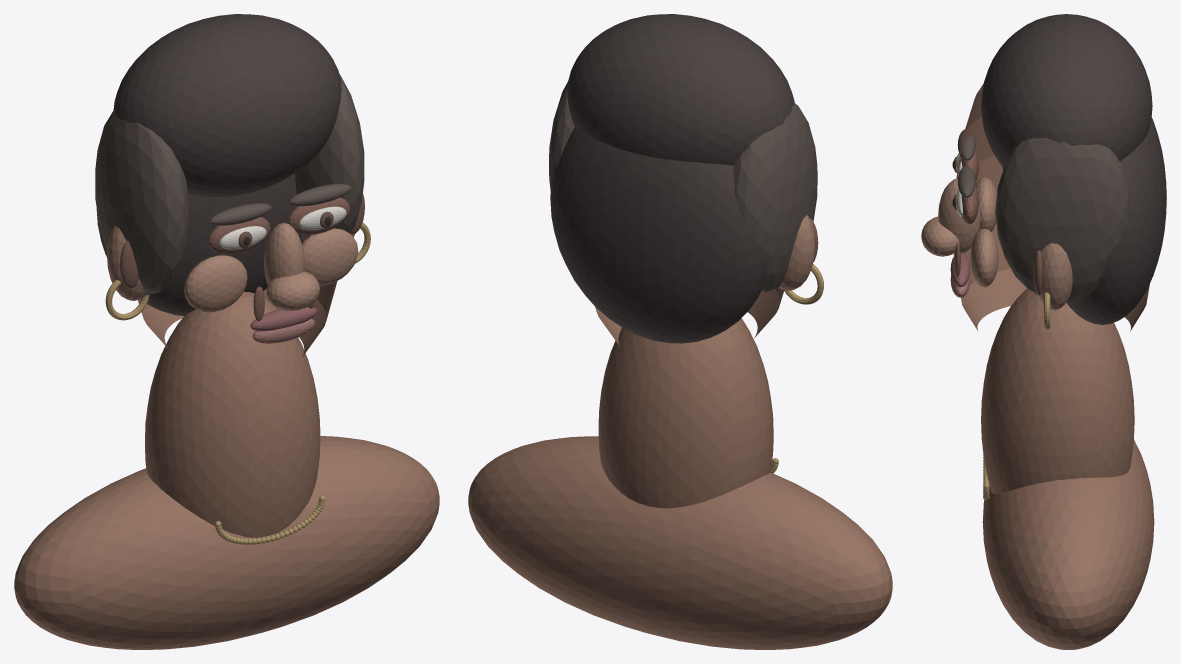
The model's file is JessyeNorman.glb.
The picture shows the model from 3 angles, left to right: view 1: azimuth 30°, elevation 25°; view 2: azimuth 150°, elevation 25°; view 3: azimuth 270°, elevation 25°; orthographic projection. The views are drawn at different scales.
Parts seen in each view (by area): view 1: shoulders, neck, hair crown, side hair, back hair, side hair_1, cheek, cheek_1, nose bridge, Face and jaw, nose tip, ear (+9 smaller); view 2: shoulders, back hair, neck, hair crown, side hair, ear, side hair_1, Face and jaw; view 3: shoulders, neck, hair crown, side hair_1, back hair, Face and jaw, ear_1, nose bridge, cheek_1, nose tip, cheek, eye socket_1 (+4 smaller).
Boxes of the visible parts, box(x1,y1,x2,y2) form: shoulders: box(14, 436, 439, 649); neck: box(145, 292, 320, 537); hair crown: box(113, 14, 341, 197); side hair: box(95, 110, 188, 295); back hair: box(96, 173, 303, 315); side hair_1: box(295, 74, 364, 241); cheek: box(184, 255, 247, 312); cheek_1: box(302, 228, 358, 285); nose bridge: box(264, 223, 304, 285); Face and jaw: box(138, 223, 346, 357); nose tip: box(266, 271, 319, 310); ear: box(107, 226, 146, 300); shoulders: box(468, 436, 892, 649); back hair: box(550, 127, 766, 343); neck: box(598, 318, 773, 508); hair crown: box(567, 14, 794, 165); side hair: box(733, 103, 817, 291); ear: box(778, 215, 814, 290); side hair_1: box(549, 82, 574, 190); Face and jaw: box(595, 287, 783, 347); shoulders: box(982, 440, 1154, 649); neck: box(981, 288, 1134, 494); hair crown: box(981, 14, 1152, 167); side hair_1: box(995, 138, 1129, 301); back hair: box(1066, 117, 1166, 324); Face and jaw: box(953, 84, 1149, 331); ear_1: box(1038, 243, 1072, 310); nose bridge: box(938, 178, 980, 253); cheek_1: box(970, 228, 998, 287); nose tip: box(921, 216, 959, 256); cheek: box(975, 177, 997, 231); eye socket_1: box(961, 185, 979, 223).
Size of the model in its own units: 2.56 by 3.57 by 1.38.
